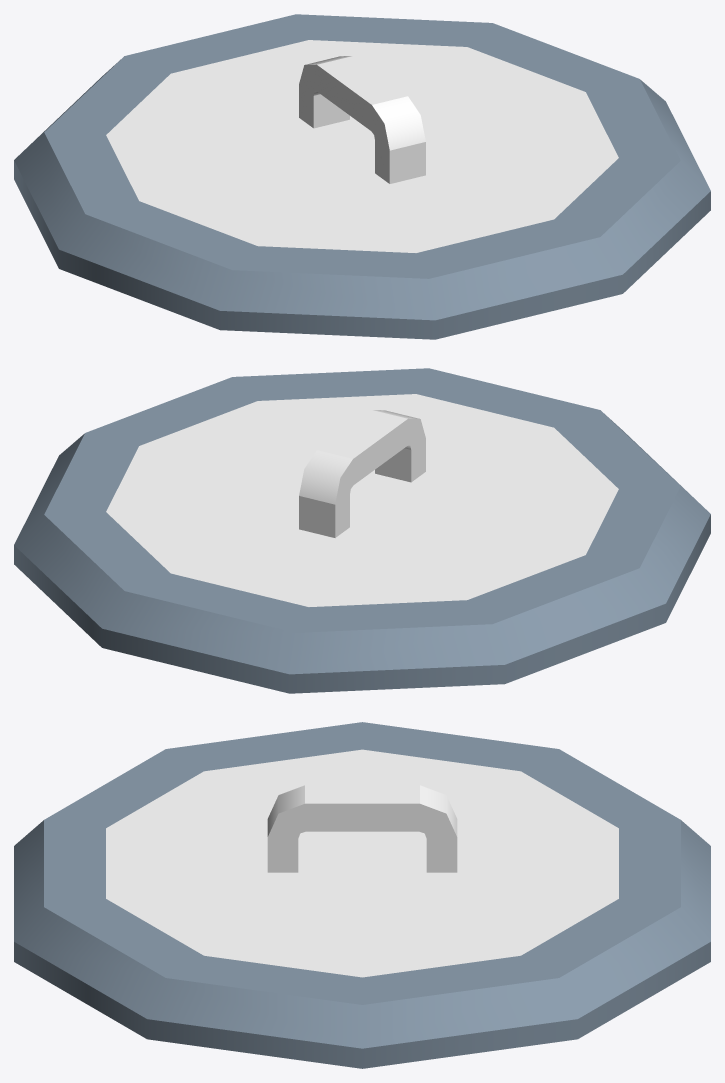
The model's file is potLid.obj.
The picture shows the model from 3 angles, top to bottom: view 1: azimuth 30°, elevation 25°; view 2: azimuth 150°, elevation 25°; view 3: azimuth 270°, elevation 25°; orthographic projection. The views are drawn at different scales.
Visible parts, largest first — view 1: potLid; view 2: potLid; view 3: potLid.
Boxes of the visible parts, left/top/right/bottom form: potLid: left=14, top=14, right=710, bottom=339; potLid: left=14, top=368, right=710, bottom=693; potLid: left=14, top=722, right=710, bottom=1068.
Size of the model in its own units: 0.6574 by 0.1184 by 0.6253.
